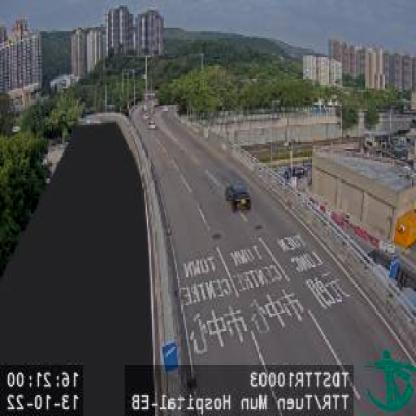Car: (223, 181, 250, 212)
